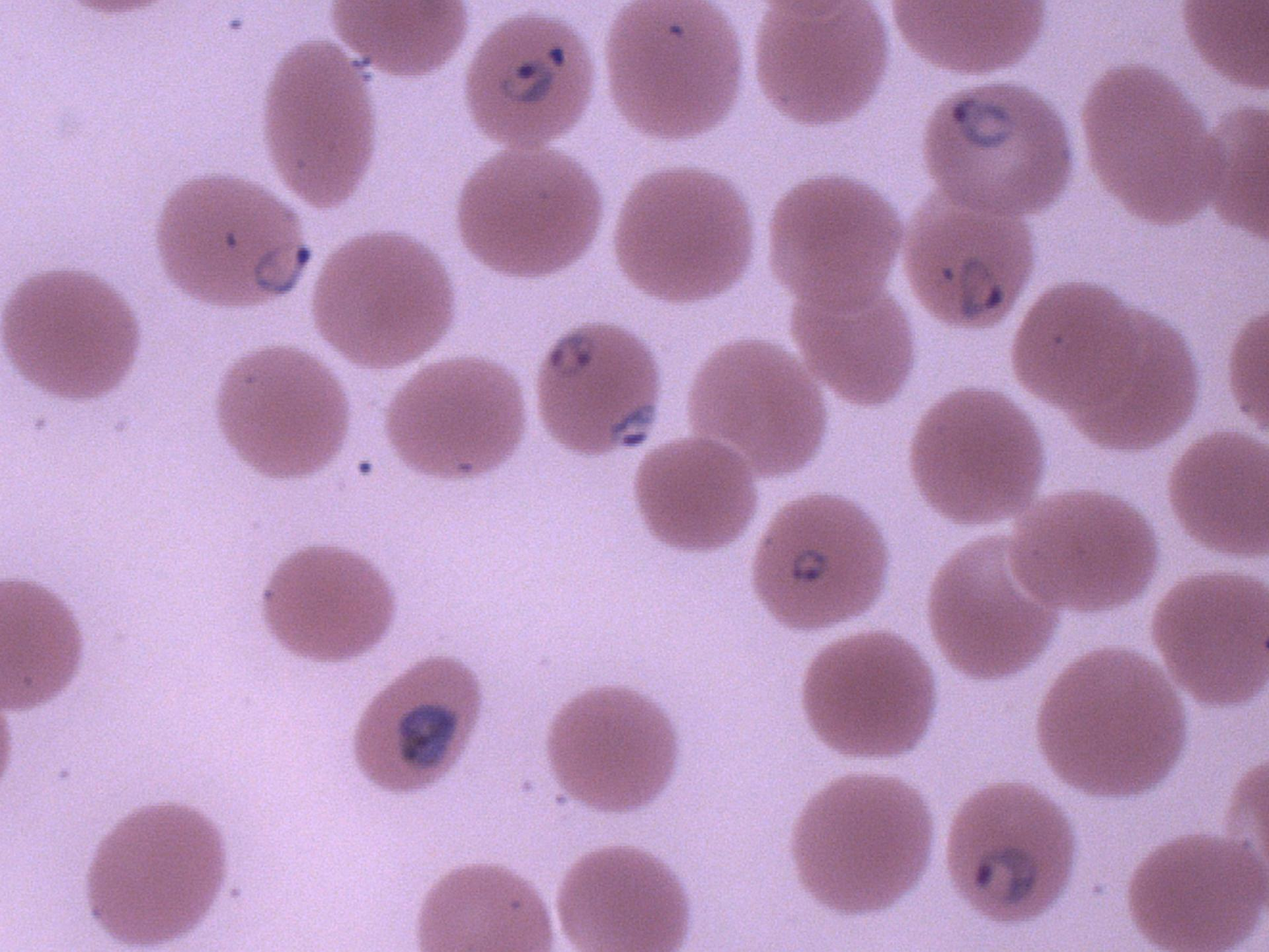Infected: (159, 174, 314, 308), (943, 773, 1078, 923), (924, 83, 1067, 213), (753, 496, 888, 632), (899, 195, 1034, 329), (466, 14, 596, 147), (540, 321, 660, 454)
Uninfected: (1036, 653, 1188, 799), (1084, 66, 1221, 224), (605, 0, 744, 142), (791, 770, 930, 912), (86, 801, 223, 945), (352, 654, 486, 797), (930, 540, 1065, 680), (692, 339, 825, 480), (263, 42, 375, 209), (461, 147, 603, 278), (311, 234, 450, 365), (910, 390, 1043, 525), (218, 342, 347, 480), (618, 169, 750, 302), (0, 270, 134, 401), (385, 357, 527, 480), (772, 179, 901, 311), (1006, 489, 1154, 604), (1132, 829, 1269, 952), (549, 682, 673, 817), (758, 0, 888, 127), (806, 631, 932, 756), (1016, 284, 1139, 410), (1158, 568, 1269, 705), (266, 547, 396, 661), (791, 288, 919, 403), (638, 435, 757, 551), (560, 846, 687, 952), (1170, 430, 1269, 565), (420, 859, 553, 952), (0, 578, 83, 717)
